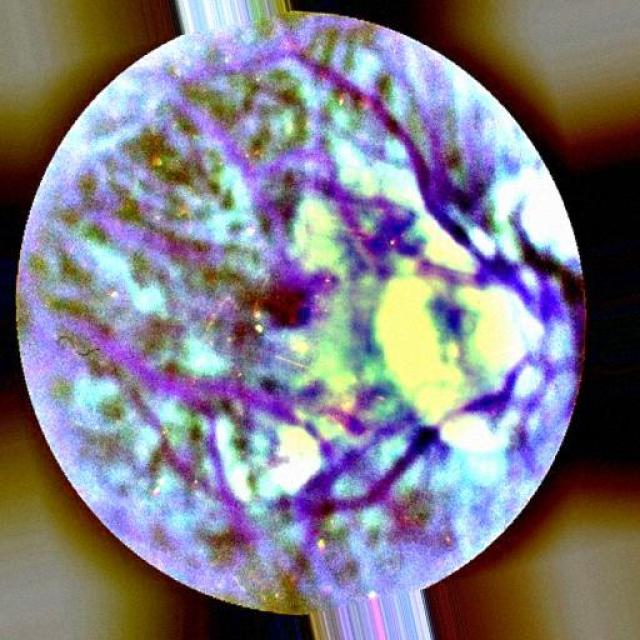Macula: (253, 278, 329, 342)
Nerves: (352, 89, 532, 303), (329, 363, 521, 509)
Optic Disk: (456, 178, 586, 482)
